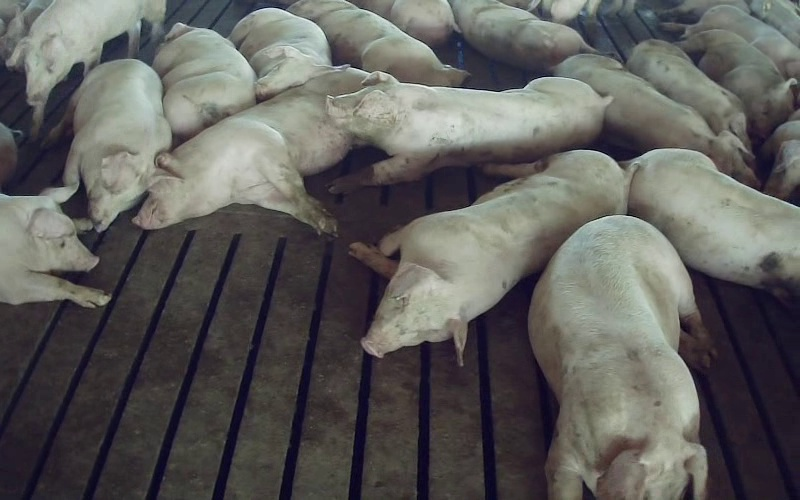pig: (351, 150, 629, 364), (529, 216, 715, 499), (134, 67, 368, 234), (327, 72, 610, 192), (555, 54, 758, 186), (628, 149, 799, 294), (45, 59, 171, 231), (288, 0, 468, 85), (626, 39, 749, 148), (0, 187, 109, 307), (680, 29, 795, 140), (153, 23, 255, 144), (450, 0, 595, 71), (229, 8, 332, 100), (684, 5, 799, 81), (349, 0, 458, 46)
